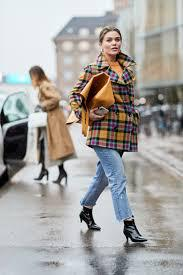Person: (67, 24, 153, 247), (22, 60, 81, 193)
